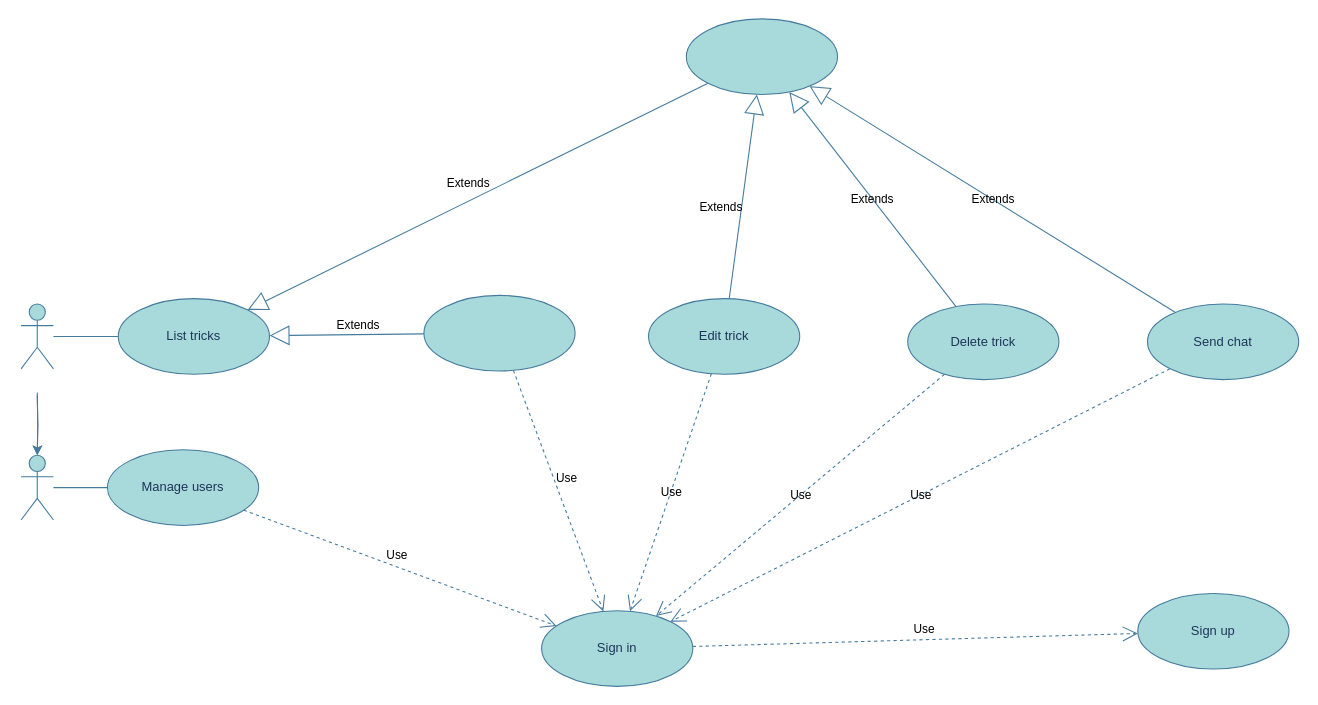
This 1318x705 diagram has some shape labels left out. The box of each missing label's shape, as (x1, y1, x2, y2) in pixels:
Admin: (20, 454, 53, 520)
Create trick: (423, 294, 575, 371)
Show trick: (685, 18, 838, 94)
User: (20, 303, 53, 369)
